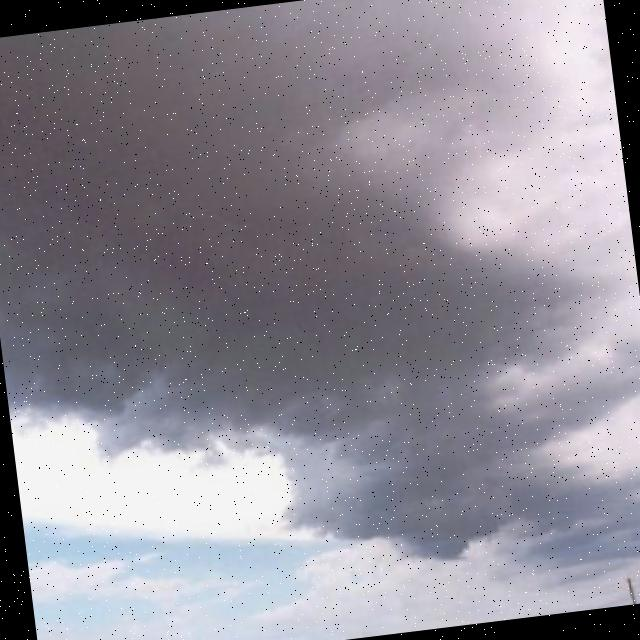Cs: (1, 5, 640, 569)
